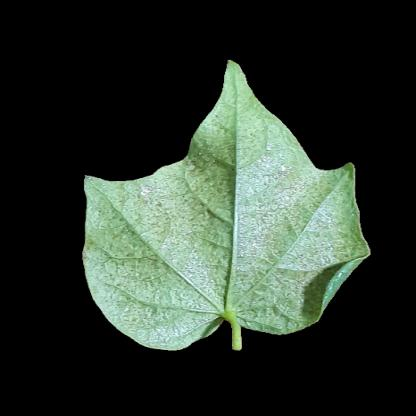healthy: (100, 204, 223, 321), (226, 130, 288, 278), (294, 171, 351, 279)
